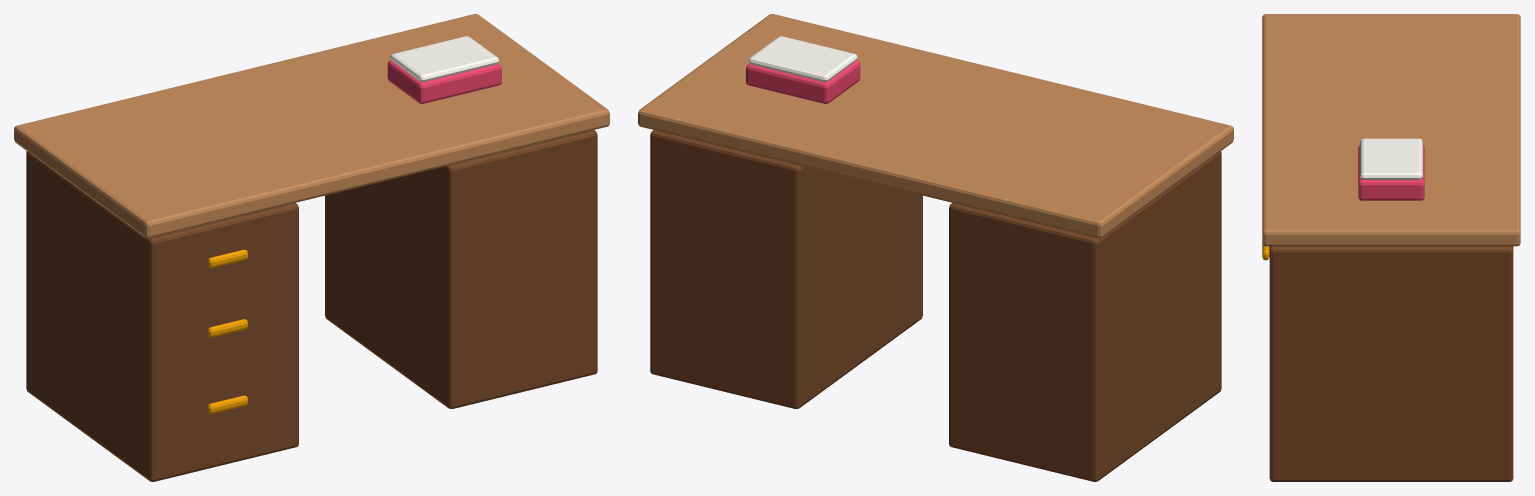
The model's file is teacher_desk.glb.
The picture shows the model from 3 angles, left to right: view 1: azimuth 30°, elevation 25°; view 2: azimuth 150°, elevation 25°; view 3: azimuth 270°, elevation 25°; orthographic projection. The views are drawn at different scales.
Parts seen in each view (by area): view 1: teacher_desk; view 2: teacher_desk; view 3: teacher_desk.
Part boxes in pixels (x1=…): teacher_desk: x1=14, y1=14, x2=609, y2=481; teacher_desk: x1=638, y1=14, x2=1233, y2=481; teacher_desk: x1=1262, y1=14, x2=1520, y2=481.
Bounding box in the file's own units: 1.4 × 0.85 × 0.7.
